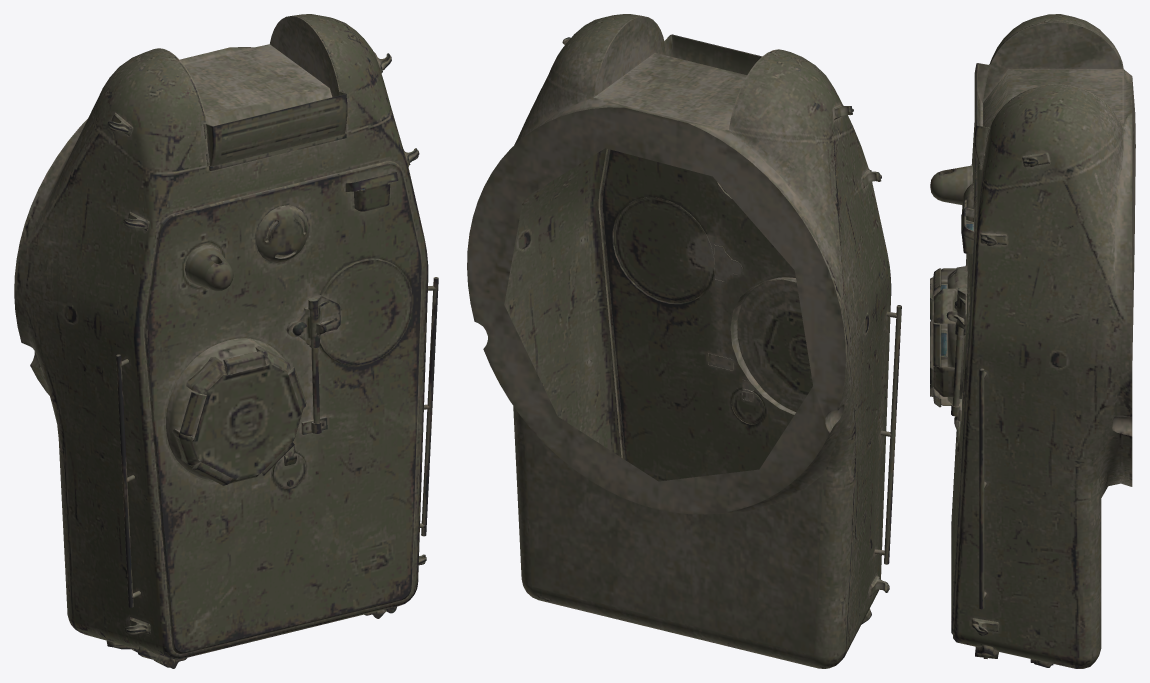
Rendered from Turret_01.glb.
3 renders of one model, left to right at view 1: azimuth 30°, elevation 25°; view 2: azimuth 150°, elevation 25°; view 3: azimuth 270°, elevation 25°, orthographic. The views are drawn at different scales.
Visible parts, largest first — view 1: set_0_group_0; view 2: set_0_group_0; view 3: set_0_group_0.
Part boxes in pixels (box(x1,y1,x2,y2)): set_0_group_0: box(14, 14, 438, 668); set_0_group_0: box(467, 14, 901, 668); set_0_group_0: box(930, 14, 1135, 668).
Size of the model in its own units: 1.98 by 2.99 by 0.99.
Materials: 1 (1 with a texture image).
